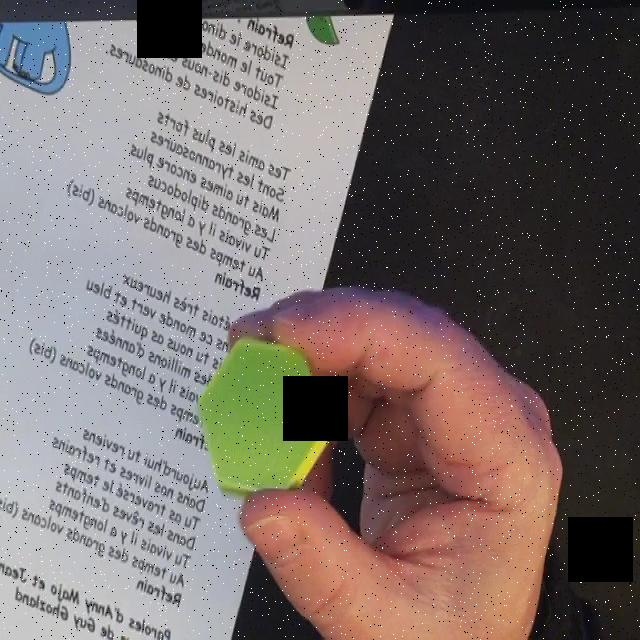hexagon: (197, 336, 329, 505)
